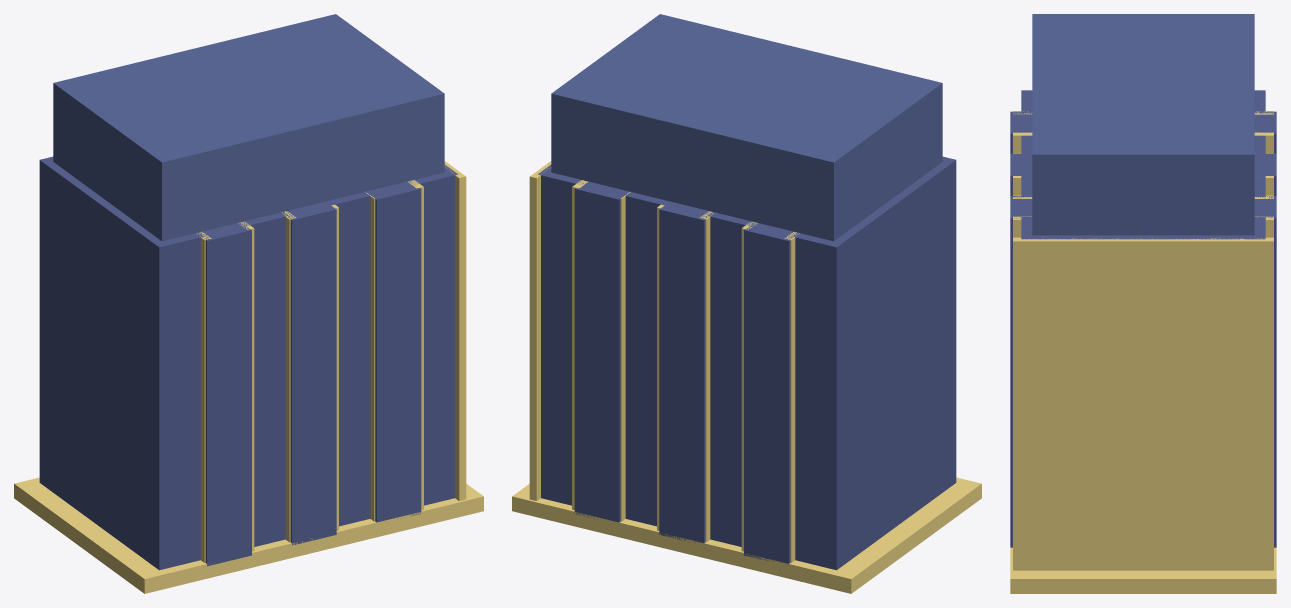
Rendered from kamishimo_saia.glb.
3 views of the same model, side by side, from view 1: azimuth 30°, elevation 25°; view 2: azimuth 150°, elevation 25°; view 3: azimuth 270°, elevation 25° (orthographic). The views are drawn at different scales.
Parts seen in each view (by area): view 1: kamishimo_saia; view 2: kamishimo_saia; view 3: kamishimo_saia.
Part boxes in pixels (<box>): kamishimo_saia: <box>14,14,483,593</box>; kamishimo_saia: <box>512,14,981,593</box>; kamishimo_saia: <box>1010,14,1276,593</box>.
Size of the model in its own units: 0.72 by 0.845 by 0.48.
